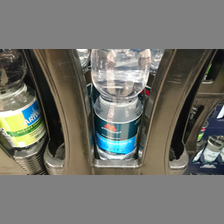water: (90, 49, 151, 159), (1, 50, 42, 150)
